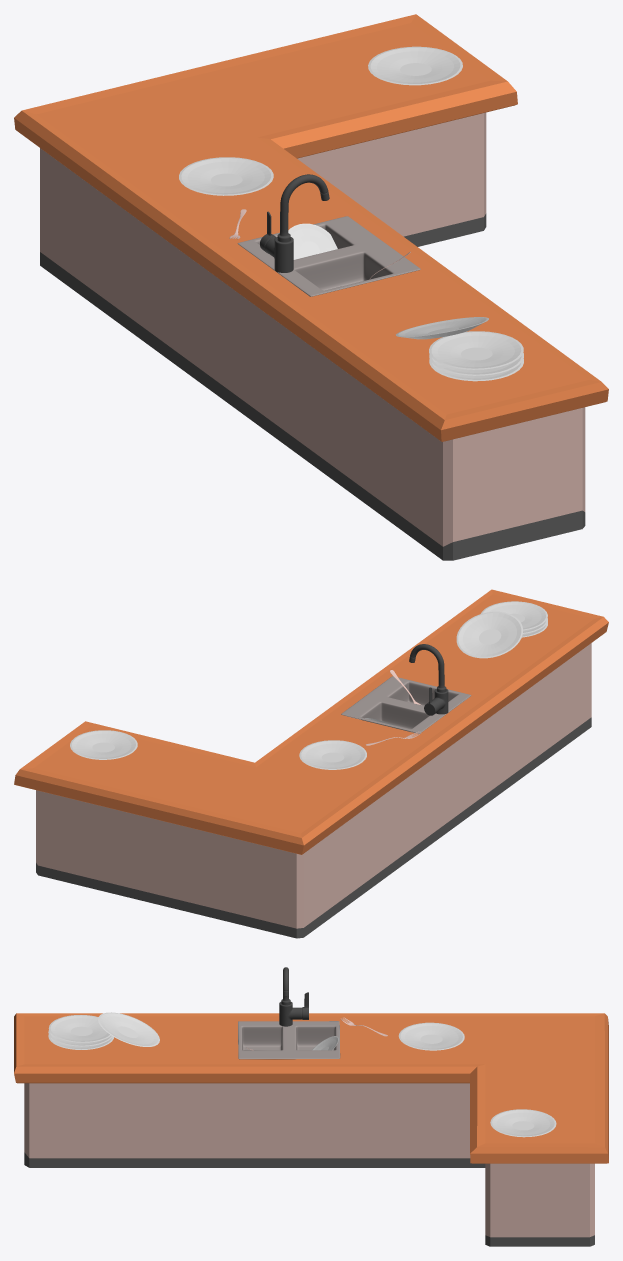
The model's file is sink.fbx.
3 renders of one model, top to bottom at view 1: azimuth 30°, elevation 25°; view 2: azimuth 150°, elevation 25°; view 3: azimuth 270°, elevation 25°, orthographic. The views are drawn at different scales.
Parts seen in each view (by area): view 1: Cube.001, Cube, Cube.005, sink, Cylinder.006, Cylinder.005, Cylinder.002, Cylinder.004, Cylinder.003, tap, faucet; view 2: Cube.001, Cube, Cube.005, sink, Cylinder.003, Cylinder.005, Cylinder.006, Cylinder.002, tap; view 3: Cube.001, Cube, Cube.005, sink, Cylinder.005, Cylinder.006, Cylinder.003, Cylinder.002, faucet.
Boxes of the visible parts, left/top/right/bottom form: Cube.001: left=14, top=14, right=608, bottom=441; Cube: left=40, top=112, right=585, bottom=546; Cube.005: left=40, top=213, right=585, bottom=560; sink: left=237, top=216, right=420, bottom=296; Cylinder.006: left=368, top=46, right=462, bottom=85; Cylinder.005: left=179, top=157, right=273, bottom=195; Cylinder.002: left=429, top=331, right=523, bottom=369; Cylinder.004: left=288, top=223, right=337, bottom=259; Cylinder.003: left=396, top=317, right=488, bottom=339; tap: left=277, top=174, right=329, bottom=242; faucet: left=264, top=237, right=293, bottom=272; Cube.001: left=14, top=589, right=608, bottom=854; Cube: left=36, top=643, right=591, bottom=928; Cube.005: left=36, top=717, right=591, bottom=938; sink: left=341, top=676, right=471, bottom=733; Cylinder.003: left=456, top=611, right=522, bottom=658; Cylinder.005: left=299, top=740, right=366, bottom=769; Cylinder.006: left=70, top=730, right=137, bottom=759; Cylinder.002: left=481, top=601, right=547, bottom=630; tap: left=409, top=644, right=446, bottom=692; Cube.001: left=14, top=1013, right=608, bottom=1163; Cube: left=24, top=1083, right=594, bottom=1237; Cube.005: left=24, top=1152, right=594, bottom=1246; sink: left=238, top=1021, right=340, bottom=1059; Cylinder.005: left=398, top=1022, right=464, bottom=1050; Cylinder.006: left=490, top=1109, right=556, bottom=1137; Cylinder.003: left=98, top=1012, right=159, bottom=1046; Cylinder.002: left=48, top=1015, right=110, bottom=1042; faucet: left=279, top=1002, right=302, bottom=1026.
Bounding box in the file's own units: 570 × 322 × 1043.
